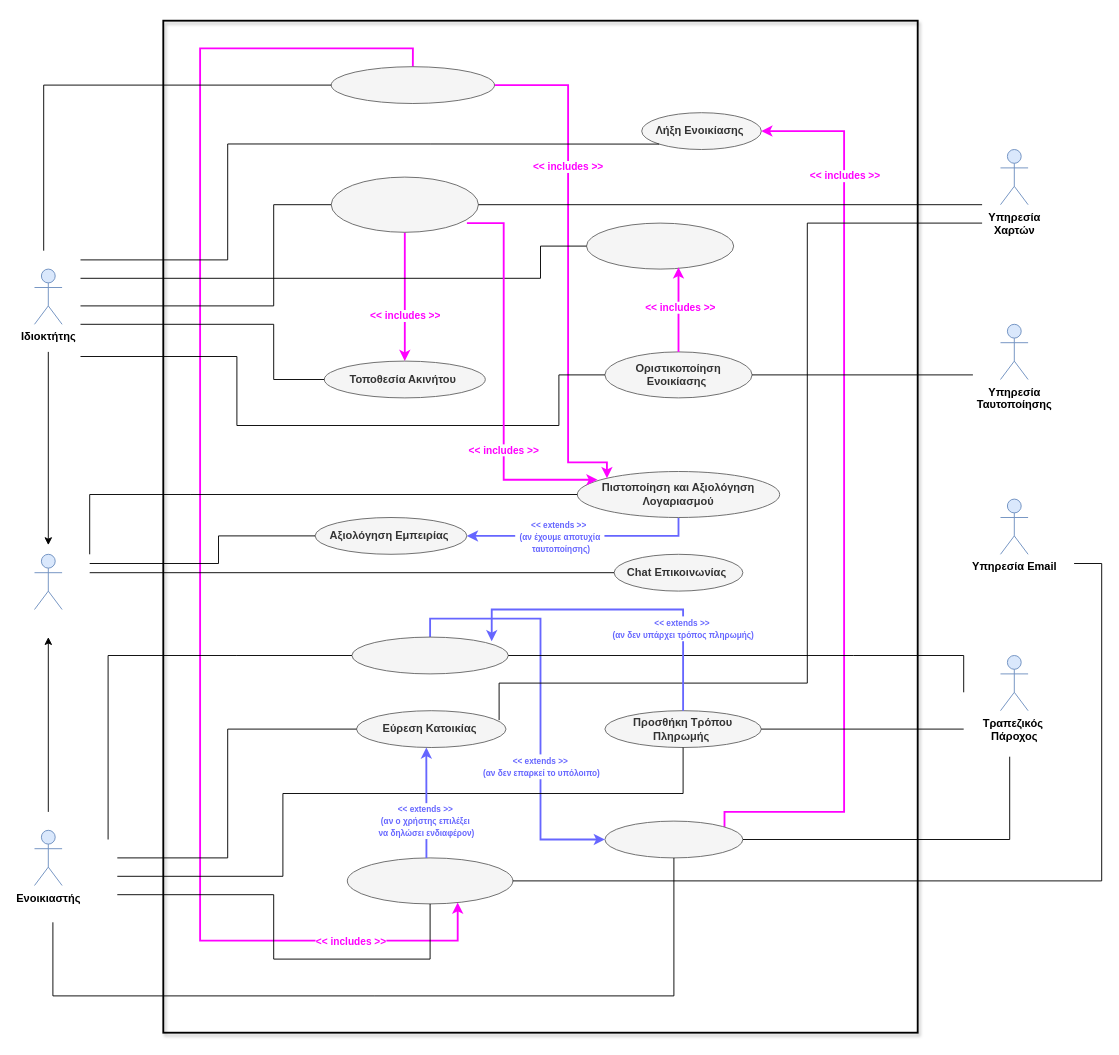
Some shapes in this 1119 by 1055 pixel diagram are drawn without their labels. Here are the shapes that lost their labels. From the top down, the centre of each, then its label:
At pixel 412 85: "Έναρξη Διαδικασίας Ενοικίασης".
At pixel 404 204: "Δημιουργία Αγγελίας Κατοικίας".
At pixel 660 245: "Αποδοχή Αίτησης Ενοικίασης".
At pixel 48 581: "Χρήστης".
At pixel 429 655: "Ανανέωση Υπολοίπου".
At pixel 673 839: "Πληρωμή Ενοικίου".
At pixel 429 880: "Δήλωση Ενδιαφέροντος Κατοικίας".
